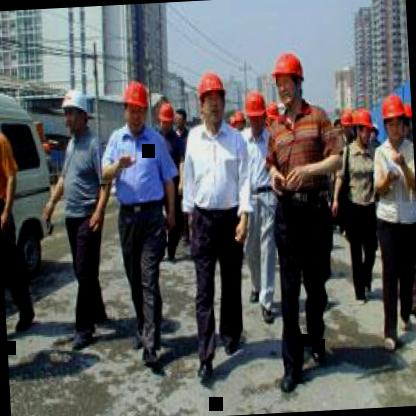helmet: (268, 48, 308, 112), (193, 66, 230, 128), (119, 80, 152, 132), (58, 85, 90, 135), (378, 92, 407, 146), (345, 104, 377, 150), (240, 87, 269, 135), (155, 98, 176, 136), (402, 97, 412, 142)
